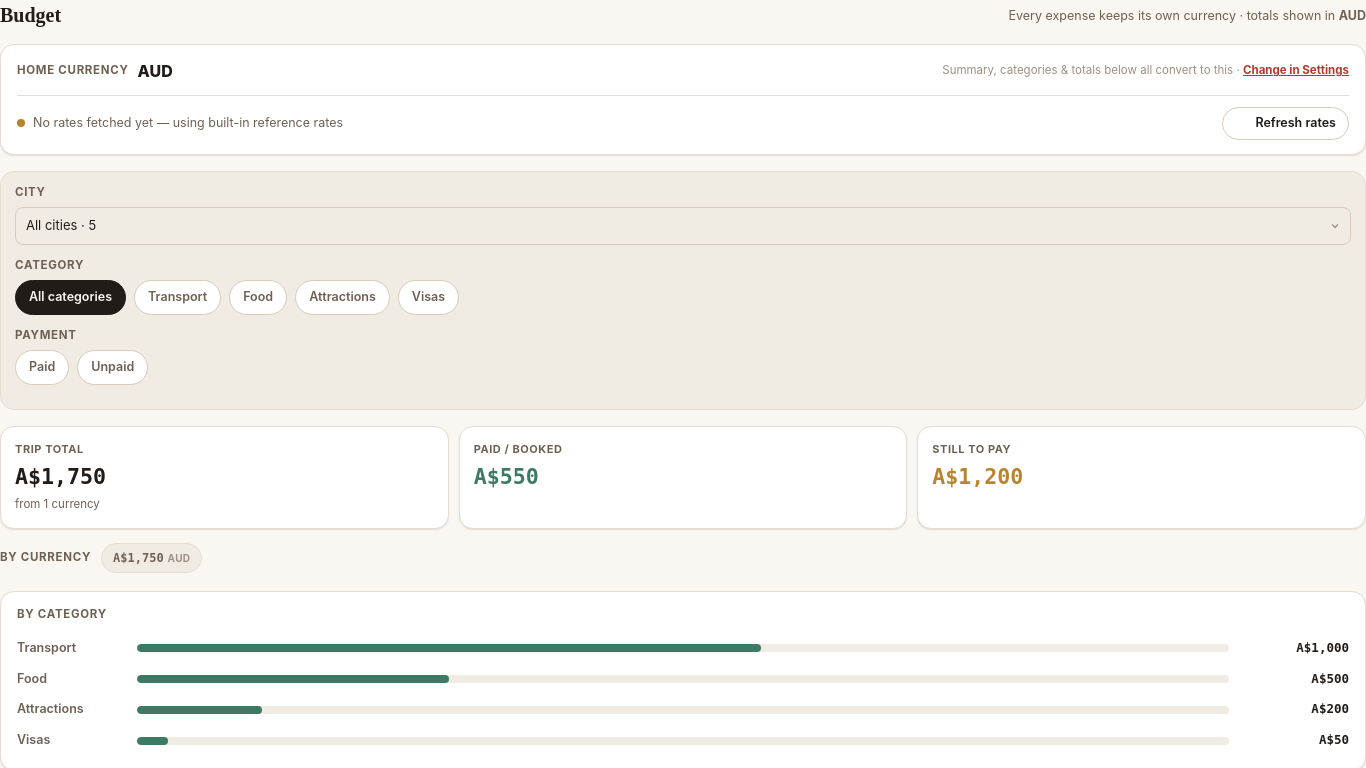
Test: BudgetPanel — filters › combines filters with AND
The width and height of the screenshot is (1366, 768).
Select "Shanghai · 2" in the dropdown labelled "City" at point(683, 226), box [15,207,1351,244]
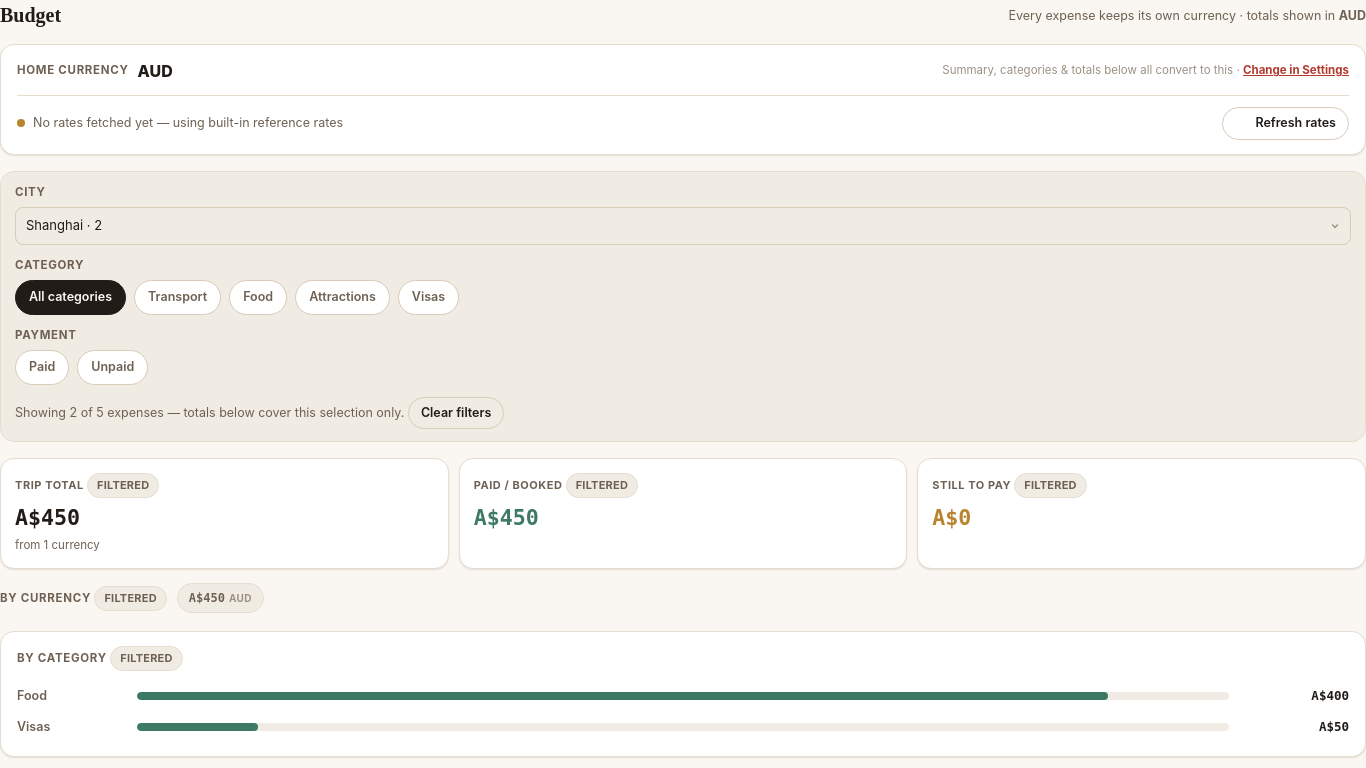
Click the button "Food" at point(258, 297), box [229,280,287,315]
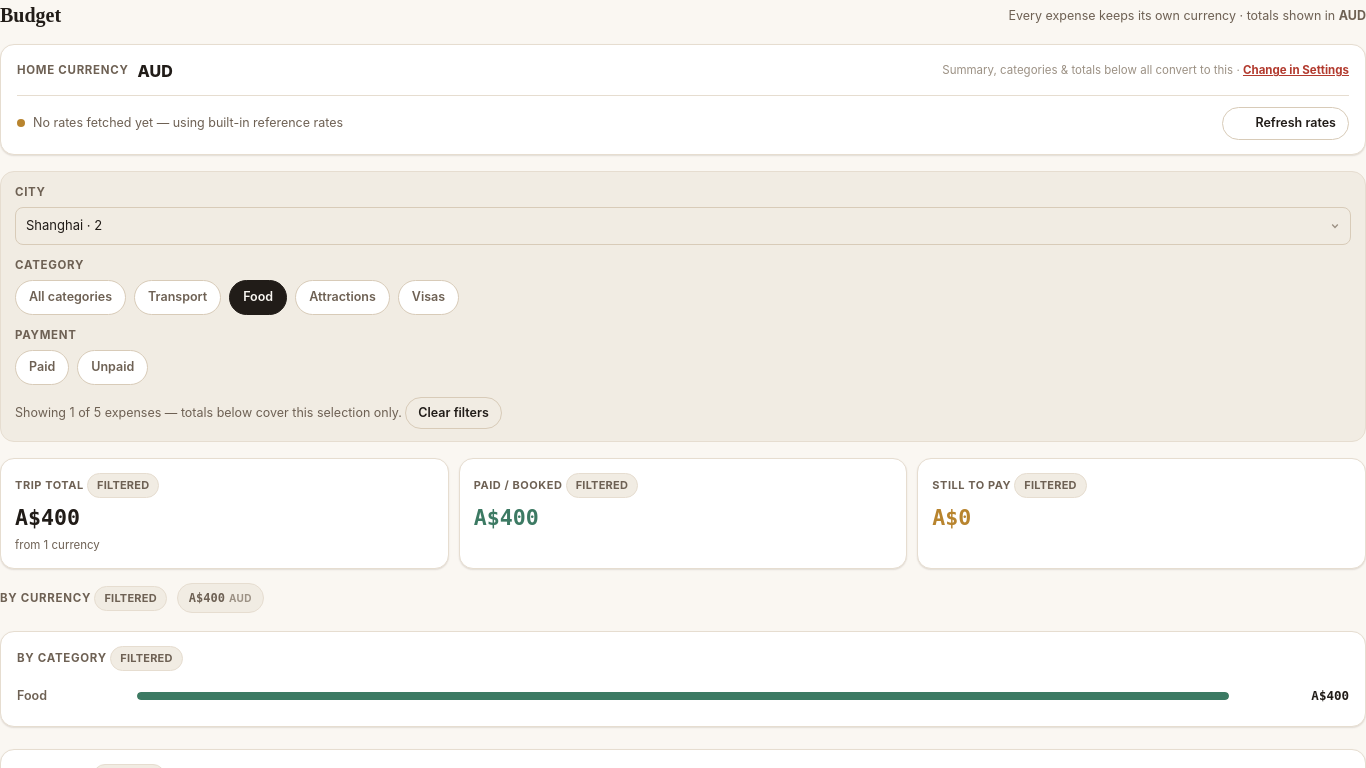
Now the text with class "home" below "Trip total" reads "A$400", box [15,505,80,530]
